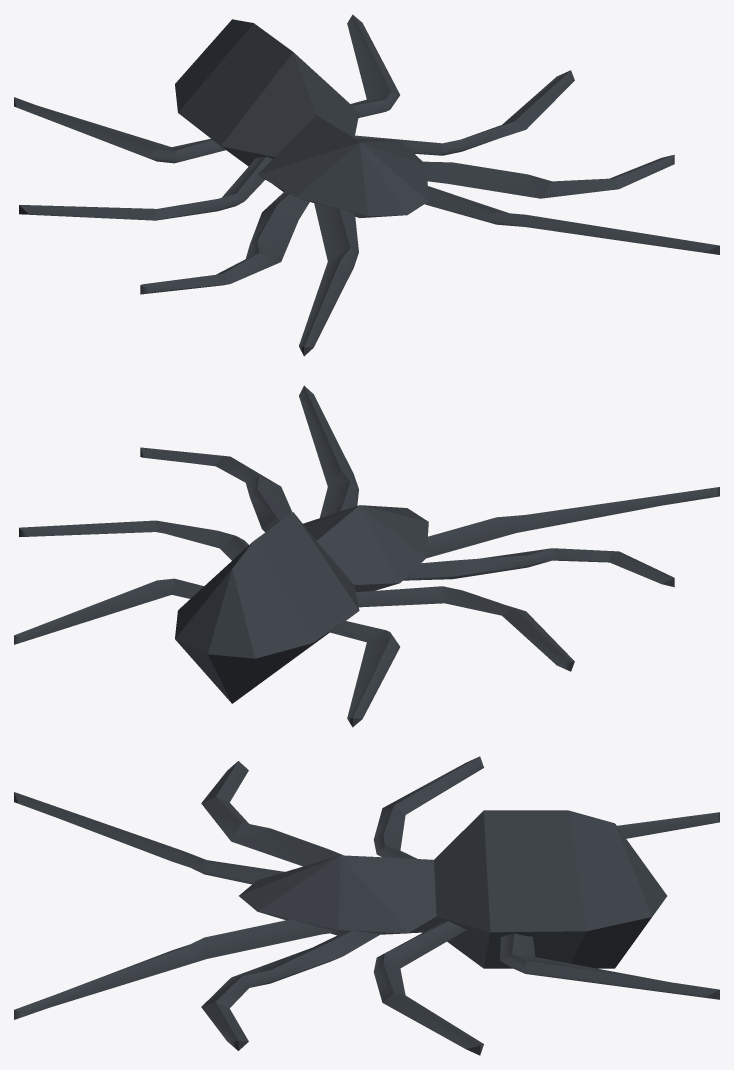
File: spider-1.glb
The picture shows the model from 3 angles, top to bottom: view 1: azimuth 30°, elevation 25°; view 2: azimuth 150°, elevation 25°; view 3: azimuth 270°, elevation 25°; orthographic projection. The views are drawn at different scales.
Visible parts, largest first — view 1: SM_Prop_Spider_01; view 2: SM_Prop_Spider_01; view 3: SM_Prop_Spider_01.
Part boxes in pixels (x1,y1,x2,y2): SM_Prop_Spider_01: (14, 14, 719, 356); SM_Prop_Spider_01: (14, 385, 719, 727); SM_Prop_Spider_01: (14, 756, 719, 1055).
Bounding box in the file's own units: 20.04 × 5.11 × 20.67.
1 material, 1 textured.
